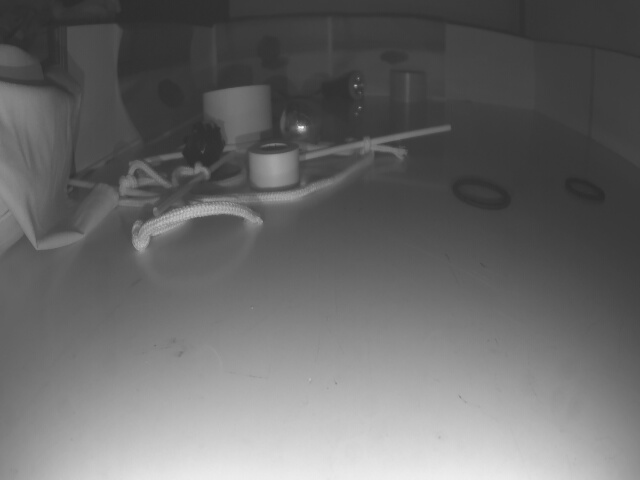Dead: (184, 123, 231, 165)
Live: (280, 100, 328, 145)
